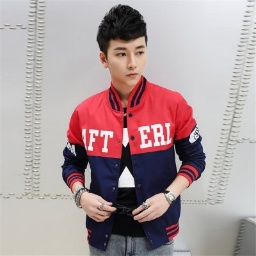face: (98, 4, 148, 86)
